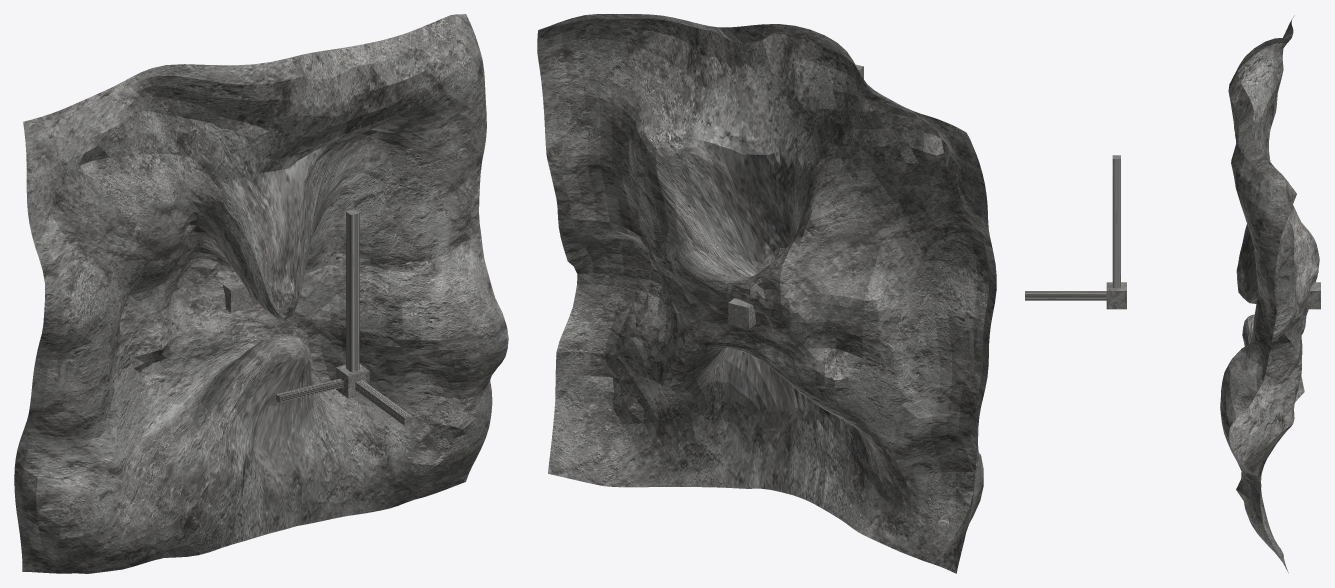
The model's file is landscape02.obj.
3 renders of one model, left to right at view 1: azimuth 30°, elevation 25°; view 2: azimuth 150°, elevation 25°; view 3: azimuth 270°, elevation 25°, orthographic. The views are drawn at different scales.
Parts seen in each view (by area): view 1: Plane, Cube.001, Cube; view 2: Plane, Cube; view 3: Plane, Cube.001.
Part boxes in pixels (x1,y1,x2,y2): Plane: (14, 14, 508, 573); Cube.001: (276, 209, 411, 425); Cube: (222, 282, 252, 312); Plane: (537, 14, 996, 573); Cube: (728, 298, 756, 329); Plane: (1220, 15, 1319, 573); Cube.001: (1025, 155, 1126, 309).
Size of the model in its own units: 43.1 by 44.89 by 29.
